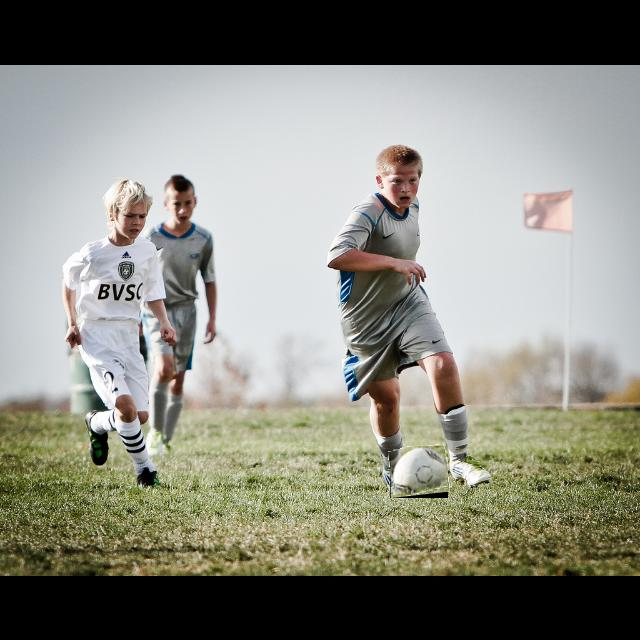Football: (390, 446, 448, 498)
